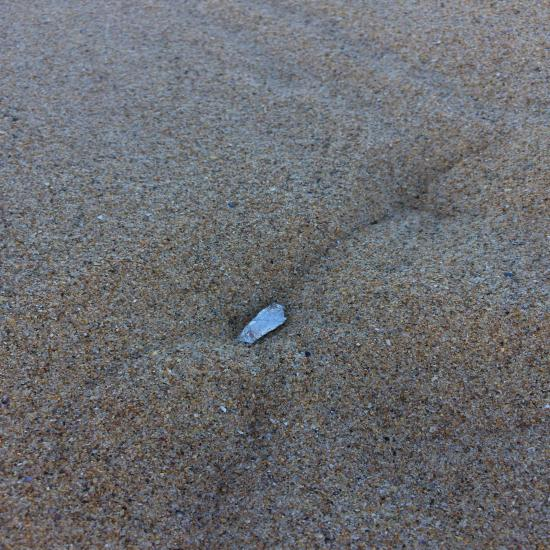Aluminium foil: (236, 303, 287, 343)
